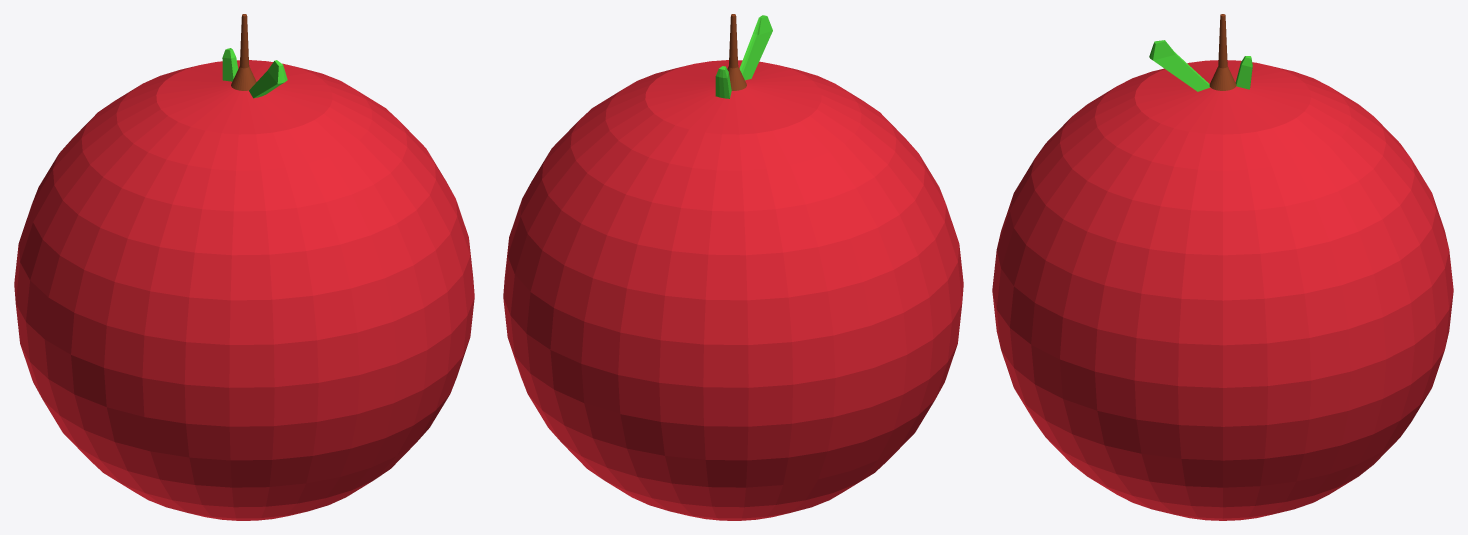
The model's file is Apple.fbx.
3 renders of one model, left to right at view 1: azimuth 30°, elevation 25°; view 2: azimuth 150°, elevation 25°; view 3: azimuth 270°, elevation 25°, orthographic.
Parts seen in each view (by area): view 1: Sphere; view 2: Sphere; view 3: Sphere.
Part boxes in pixels (<box>): Sphere: <box>14,14,474,520</box>; Sphere: <box>503,14,963,520</box>; Sphere: <box>992,14,1453,520</box>.
Size of the model in its own units: 2.43 by 2.82 by 2.43.
